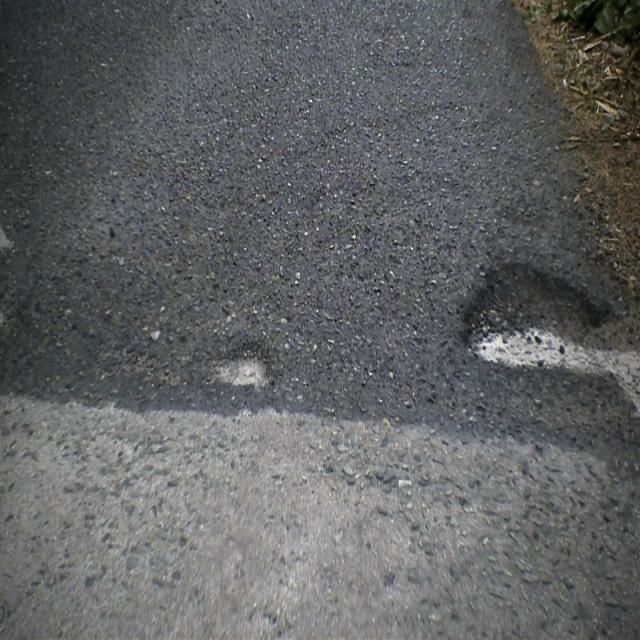Pothole: (454, 250, 640, 431), (181, 313, 298, 419)
